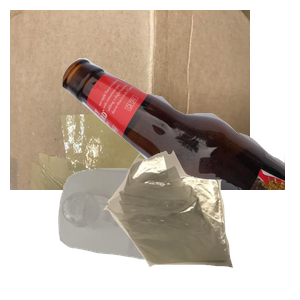cardboard: (10, 10, 250, 190)
glass: (60, 56, 300, 236)
plastic: (56, 166, 241, 300)
trash: (101, 148, 300, 300)
